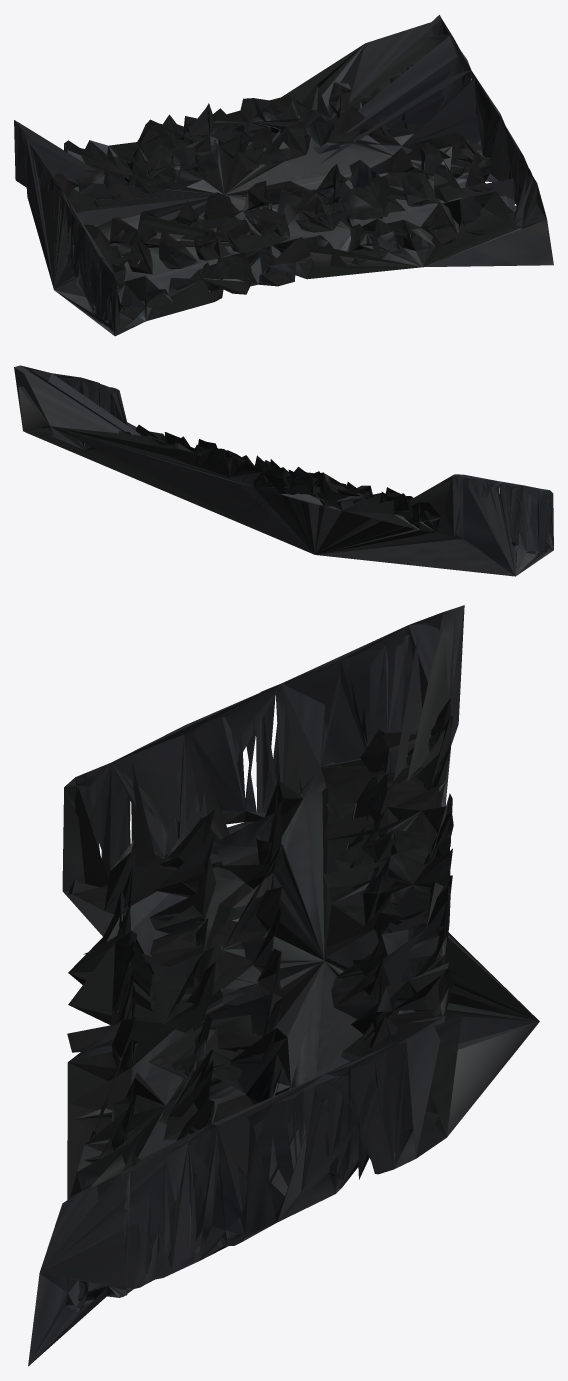
Rendered from bleacher_metal_low.glb.
The picture shows the model from 3 angles, top to bottom: view 1: azimuth 30°, elevation 25°; view 2: azimuth 150°, elevation 25°; view 3: azimuth 270°, elevation 25°; orthographic projection. The views are drawn at different scales.
Parts seen in each view (by area): view 1: m; view 2: m; view 3: m.
Part boxes in pixels (box(x1,y1,x2,y2)): m: box(14, 15, 553, 336); m: box(14, 365, 553, 576); m: box(28, 605, 539, 1366).
Size of the model in its own units: 8.02 by 3 by 4.03.
Materials: 1 (1 with a texture image).
